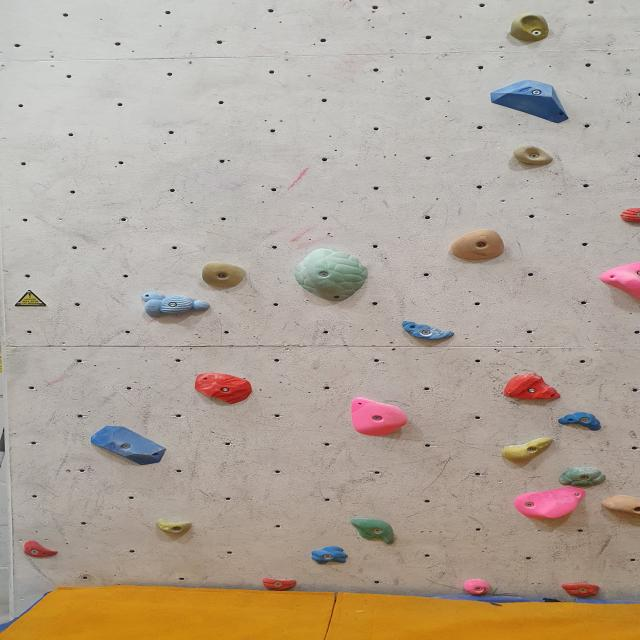Crimp: (89, 425, 167, 466), (498, 371, 569, 404), (194, 372, 256, 403), (559, 466, 609, 487), (402, 322, 459, 340), (560, 412, 607, 430), (561, 582, 603, 598), (21, 540, 58, 558), (158, 519, 196, 536), (310, 548, 350, 564), (611, 205, 640, 225), (464, 578, 493, 596), (258, 577, 296, 590)
Jug: (348, 398, 411, 437), (453, 229, 511, 262), (508, 12, 553, 44), (203, 262, 249, 290), (511, 145, 556, 167)
Pinch: (137, 290, 211, 318), (501, 438, 557, 464)
Sloper: (483, 75, 570, 128), (288, 246, 368, 300), (513, 487, 590, 520), (598, 258, 640, 304), (352, 518, 399, 543)
